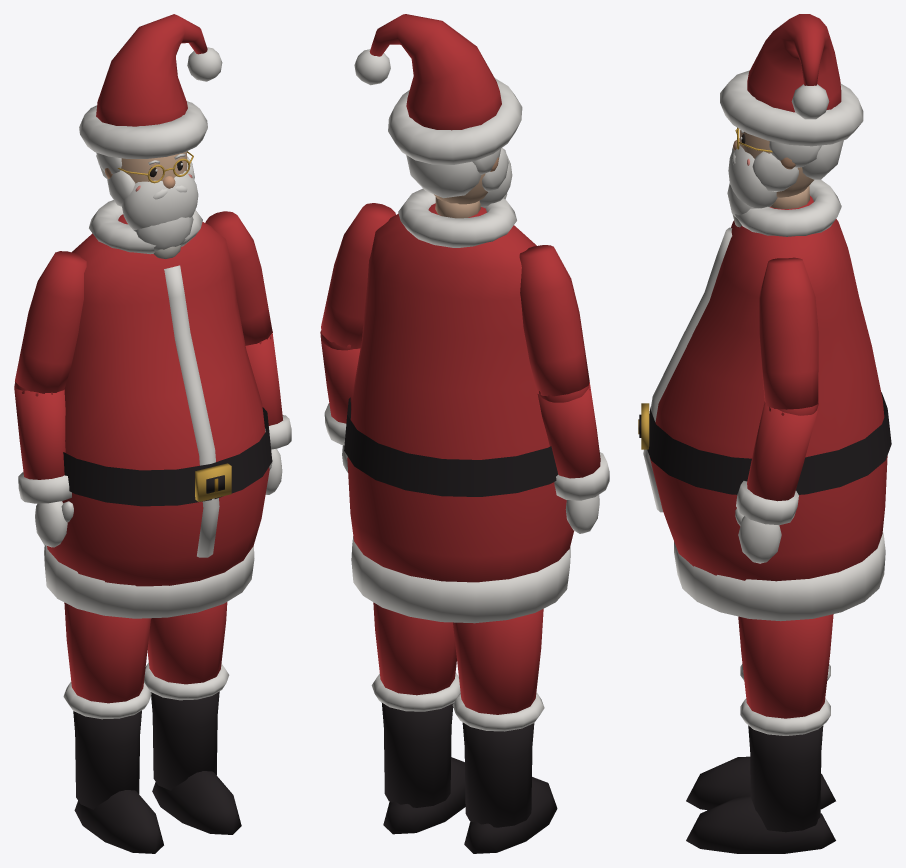
Rendered from resident-santa.glb.
The picture shows the model from 3 angles, left to right: view 1: azimuth 30°, elevation 25°; view 2: azimuth 150°, elevation 25°; view 3: azimuth 270°, elevation 25°; orthographic projection. The views are drawn at different scales.
Parts seen in each view (by area): view 1: body, head, armL, armR; view 2: body, head, armL, armR; view 3: body, head, armR.
Part boxes in pixels (x1,y1,x2,y2): body: (44,200,272,853); head: (79,14,222,258); armL: (14,251,86,547); armR: (205,211,291,494); body: (344,188,573,853); head: (354,14,522,208); armL: (519,245,609,533); armR: (320,203,395,472); body: (638,179,891,853); head: (720,14,863,227); armR: (735,257,818,563).
Size of the model in its own units: 0.6508 by 1.82 by 0.512.
